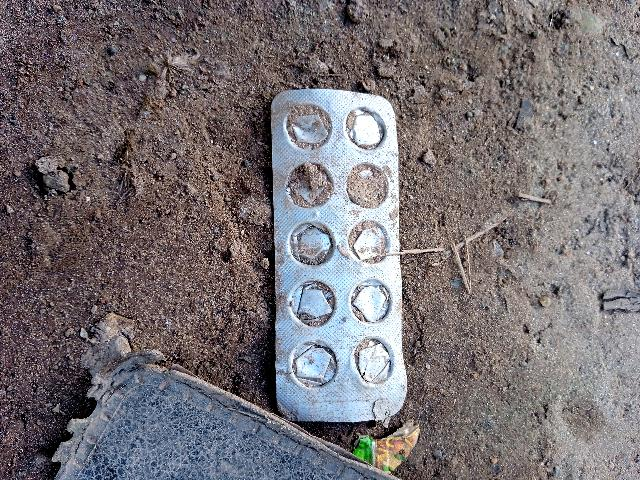medicine: (269, 84, 414, 419)
